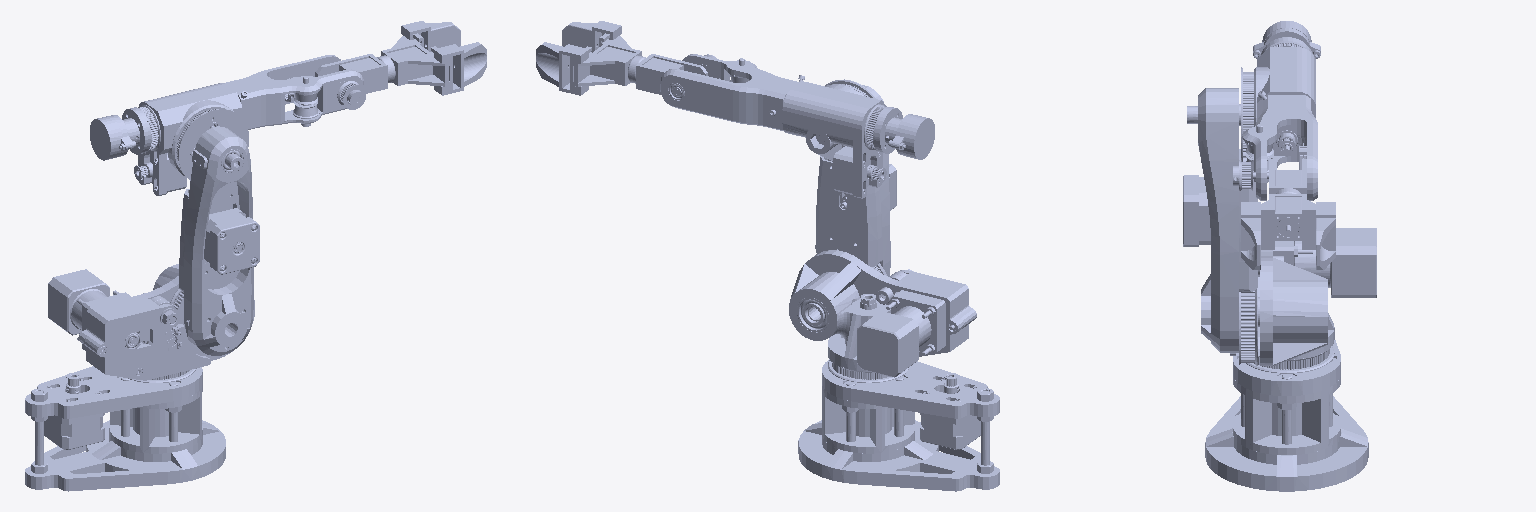
URDF robot description (grace):
<?xml version="1.0" encoding="utf-8" ?>
<!-- This URDF was automatically created by SolidWorks to URDF Exporter! Originally created by [author] ([email redacted]) 
     Commit Version: 1.6.0-4-g7f85cfe  Build Version: 1.6.7995.38578
     For more information, please see http://wiki.ros.org/sw_urdf_exporter -->
<robot name="grace">

    <link name="arm_link">
        
<inertial>
            <origin xyz="-0.0230713386000361 9.15799543976803E-08 0.0415100455137467" rpy="0 0 0" />
            <mass value="0.521201362359327" />
            <inertia ixx="0.000308448801249096" ixy="-2.24010570170033E-10" ixz="-4.20908209420788E-06" iyy="0.000629271153965848" iyz="3.68418762308172E-10" izz="0.000820585760917926" />
        </inertial>

        <visual>
            <origin xyz="0 0 0" rpy="0 0 0" />
            <geometry>
                <mesh filename="package://grace_arm_description/meshes/base_link.STL" />
            </geometry>
            <material name="">
                <color rgba="0.792156862745098 0.819607843137255 0.933333333333333 1" />
            </material>
        </visual>
        <collision>
            <origin xyz="0 0 0" rpy="0 0 0" />
            <geometry>
                <mesh filename="package://grace_arm_description/meshes/base_link.STL" />
            </geometry>
        </collision>
        <gazebo>
            <static>true</static>
        </gazebo>
    </link>

    <link name="link_1">
        
<inertial>
            <origin xyz="-0.00367212792136895 -0.000953971744108238 0.0314259611133999" rpy="0 0 0" />
            <mass value="0.44628825628102" />
            <inertia ixx="0.000211622135350193" ixy="-1.60898695184289E-05" ixz="-2.12044163670866E-05" iyy="0.000426842605557489" iyz="8.45937792738111E-06" izz="0.000364093985789392" />
        </inertial>

        <visual>
            <origin xyz="0 0 0" rpy="0 0 0" />
            <geometry>
                <mesh filename="package://grace_arm_description/meshes/link_1.STL" />
            </geometry>
            <material name="">
                <color rgba="0.792156862745098 0.819607843137255 0.933333333333333 1" />
            </material>
        </visual>
        <collision>
            <origin xyz="0 0 0" rpy="0 0 0" />
            <geometry>
                <mesh filename="package://grace_arm_description/meshes/link_1.STL" />
            </geometry>
        </collision>
    </link>
    <joint name="joint_1" type="revolute">
        <origin xyz="0 0 0.0996786823922755" rpy="0 0 0" />
        <parent link="arm_link" />
        <child link="link_1" />
        <axis xyz="0 0 -1" />
        <limit lower="-1.85005" upper="1.85005" effort="2.8" velocity="3" />
    </joint>
    <link name="link_2">
        
<inertial>
            <origin xyz="-4.49098406521686E-05 -0.0265864041730696 0.0740533879090693" rpy="0 0 0" />
            <mass value="0.259039695912046" />
            <inertia ixx="0.000716987912967795" ixy="-2.69254469666682E-08" ixz="1.11063727567744E-06" iyy="0.000772334119559269" iyz="9.86292495639906E-06" izz="7.60097420899484E-05" />
        </inertial>

        <visual>
            <origin xyz="0 0 0" rpy="0 0 0" />
            <geometry>
                <mesh filename="package://grace_arm_description/meshes/link_2.STL" />
            </geometry>
            <material name="">
                <color rgba="0.792156862745098 0.819607843137255 0.933333333333333 1" />
            </material>
        </visual>
        <collision>
            <origin xyz="0 0 0" rpy="0 0 0" />
            <geometry>
                <mesh filename="package://grace_arm_description/meshes/link_2.STL" />
            </geometry>
        </collision>
    </link>
    <joint name="joint_2" type="revolute">
        <origin xyz="0.0374999999999999 -0.0205999999999994 0.0356213176077246" rpy="0 0 0" />
        <parent link="link_1" />
        <child link="link_2" />
        <axis xyz="0 1 0" />
        <limit lower="-0.314159" upper="2.1" effort="2.8" velocity="3" />
    </joint>
    <link name="link_3">
        
<inertial>
            <origin xyz="-0.00667556981939788 0.013244622821894 0.00210092260676947" rpy="0 0 0" />
            <mass value="0.196523155872548" />
            <inertia ixx="8.09651824587146E-05" ixy="2.81975169120418E-06" ixz="-3.66085369615221E-06" iyy="0.000112059523768602" iyz="-6.25153874978293E-06" izz="9.44916270684125E-05" />
        </inertial>

        <visual>
            <origin xyz="0 0 0" rpy="0 0 0" />
            <geometry>
                <mesh filename="package://grace_arm_description/meshes/link_3.STL" />
            </geometry>
            <material name="">
                <color rgba="0.792156862745098 0.819607843137255 0.933333333333333 1" />
            </material>
        </visual>
        <collision>
            <origin xyz="0 0 0" rpy="0 0 0" />
            <geometry>
                <mesh filename="package://grace_arm_description/meshes/link_3.STL" />
            </geometry>
        </collision>
    </link>
    <joint name="joint_3" type="revolute">
        <origin xyz="0 0 0.16" rpy="0 0 0" />
        <parent link="link_2" />
        <child link="link_3" />
        <axis xyz="0 1 0" />
        <limit lower="-0.610865" upper="0.7833" effort="2.8" velocity="3" />
    </joint>
    <link name="link_4">
        
<inertial>
            <origin xyz="0.0417446458132815 -0.00121844062855813 -2.82984578249823E-05" rpy="0 0 0" />
            <mass value="0.13904213264245" />
            <inertia ixx="3.3956174612803E-05" ixy="-9.08014614619385E-07" ixz="-3.24476833174034E-08" iyy="9.52192497334699E-05" iyz="-1.06868181454595E-08" izz="0.000102425361067127" />
        </inertial>

        <visual>
            <origin xyz="0 0 0" rpy="0 0 0" />
            <geometry>
                <mesh filename="package://grace_arm_description/meshes/link_4.STL" />
            </geometry>
            <material name="">
                <color rgba="0.792156862745098 0.819607843137255 0.933333333333333 1" />
            </material>
        </visual>
        <collision>
            <origin xyz="0 0 0" rpy="0 0 0" />
            <geometry>
                <mesh filename="package://grace_arm_description/meshes/link_4.STL" />
            </geometry>
        </collision>
    </link>
    <joint name="joint_4" type="revolute">
        <origin xyz="0 0.0205999999999994 0.0149999999999999" rpy="0 0 0" />
        <parent link="link_3" />
        <child link="link_4" />
        <axis xyz="1 0 0" />
        <limit lower="-3.14" upper="3.14" effort="0.26" velocity="3" />
    </joint>
    <link name="link_5">
        
<inertial>
            <origin xyz="0.0238545234249183 0.001000000000004 -4.30211422042248E-15" rpy="0 0 0" />
            <mass value="0.0226291261478766" />
            <inertia ixx="2.63033208556289E-06" ixy="5.83691209581624E-20" ixz="4.79954959215583E-22" iyy="4.6077178783839E-06" iyz="-3.26721704603512E-21" izz="5.5778477420272E-06" />
        </inertial>

        <visual>
            <origin xyz="0 0 0" rpy="0 0 0" />
            <geometry>
                <mesh filename="package://grace_arm_description/meshes/link_5.STL" />
            </geometry>
            <material name="">
                <color rgba="0.792156862745098 0.819607843137255 0.933333333333333 1" />
            </material>
        </visual>
        <collision>
            <origin xyz="0 0 0" rpy="0 0 0" />
            <geometry>
                <mesh filename="package://grace_arm_description/meshes/link_5.STL" />
            </geometry>
        </collision>
    </link>
    <joint name="joint_5" type="revolute">
        <origin xyz="0.138399999999998 0 0" rpy="0 0 0" />
        <parent link="link_4" />
        <child link="link_5" />
        <axis xyz="0 1 0" />
        <limit lower="-1.74533" upper="1.74533" effort="100" velocity="3" />
    </joint>
    <link name="link_6">
        
<inertial>
            <origin xyz="0.0375700933313833 7.79931674799172E-15 1.74860126378462E-15" rpy="0 0 0" />
            <mass value="0.0344745442037744" />
            <inertia ixx="8.25707747004663E-06" ixy="1.24099057490131E-20" ixz="-8.96220887935423E-22" iyy="5.60919944945653E-06" iyz="6.64403133578784E-22" izz="1.04084249994565E-05" />
        </inertial>

        <visual>
            <origin xyz="0 0 0" rpy="0 0 0" />
            <geometry>
                <mesh filename="package://grace_arm_description/meshes/link_6.STL" />
            </geometry>
            <material name="">
                <color rgba="0.792156862745098 0.819607843137255 0.933333333333333 1" />
            </material>
        </visual>
        <collision>
            <origin xyz="0 0 0" rpy="0 0 0" />
            <geometry>
                <mesh filename="package://grace_arm_description/meshes/link_6.STL" />
            </geometry>
        </collision>
    </link>
    <joint name="joint_6" type="revolute">
        <origin xyz="0.0368264234301688 0.00100000000000361 0" rpy="0 0 0" />
        <parent link="link_5" />
        <child link="link_6" />
        <axis xyz="1 0 0" />
        <limit lower="-6.28" upper="6.28" effort="100" velocity="3" />
    </joint>
    <link name="link_7">
        
<inertial>
            <origin xyz="0.0813383689142501 -0.00569799510345087 -0.0109507082226625" rpy="0 0 0" />
            <mass value="0.0107833196956505" />
            <inertia ixx="1.71418722053534E-06" ixy="-2.56039273423129E-07" ixz="1.0347632917084E-12" iyy="3.38137633095013E-06" iyz="2.49449182084092E-12" izz="2.04176420366087E-06" />
        </inertial>

        <visual>
            <origin xyz="0 0 0" rpy="0 0 0" />
            <geometry>
                <mesh filename="package://grace_arm_description/meshes/link_7.STL" />
            </geometry>
            <material name="">
                <color rgba="0.792156862745098 0.819607843137255 0.933333333333333 1" />
            </material>
        </visual>
        <collision>
            <origin xyz="0 0 0" rpy="0 0 0" />
            <geometry>
                <mesh filename="package://grace_arm_description/meshes/link_7.STL" />
            </geometry>
        </collision>
    </link>
    <joint name="joint_7" type="prismatic">
        <origin xyz="-0.0085199938135937 -0.0199999999998909 0.0109507154822943" rpy="0 0 0" />
        <parent link="link_6" />
        <child link="link_7" />
        <axis xyz="0 1 0" />
        <limit lower="0" upper="0.02" effort="100" velocity="3" />
    </joint>
    <link name="link_8">
        
<inertial>
            <origin xyz="0.0813383689142507 0.00569799510352407 0.0109507082226624" rpy="0 0 0" />
            <mass value="0.0107833196956505" />
            <inertia ixx="1.71418722053532E-06" ixy="2.56039273423034E-07" ixz="-1.03476328954469E-12" iyy="3.38137633095016E-06" iyz="2.49449182102149E-12" izz="2.04176420366087E-06" />
        </inertial>

        <visual>
            <origin xyz="0 0 0" rpy="0 0 0" />
            <geometry>
                <mesh filename="package://grace_arm_description/meshes/link_8.STL" />
            </geometry>
            <material name="">
                <color rgba="0.792156862745098 0.819607843137255 0.933333333333333 1" />
            </material>
        </visual>
        <collision>
            <origin xyz="0 0 0" rpy="0 0 0" />
            <geometry>
                <mesh filename="package://grace_arm_description/meshes/link_8.STL" />
            </geometry>
        </collision>
    </link>
    <joint name="joint_8" type="prismatic">
        <origin xyz="-0.00851999381359586 0.01999999999987 -0.01095071548229" rpy="0 0 0" />
        <parent link="link_6" />
        <child link="link_8" />
        <axis xyz="0 -1 0" />
        <limit lower="0" upper="0.02" effort="100" velocity="3" />
        <mimic joint="joint_7" multiplier="1" offset="0" />
    </joint>
    
<transmission name="trans_joint_1">
        <type>transmission_interface/SimpleTransmission</type>
        <joint name="joint_1">
            <hardwareInterface>hardware_interface/PositionJointInterface</hardwareInterface>
        </joint>
        <actuator name="joint_1_motor">
            <hardwareInterface>hardware_interface/PositionJointInterface</hardwareInterface>
            <mechanicalReduction>1</mechanicalReduction>
        </actuator>
    </transmission>
    <transmission name="trans_joint_2">
        <type>transmission_interface/SimpleTransmission</type>
        <joint name="joint_2">
            <hardwareInterface>hardware_interface/PositionJointInterface</hardwareInterface>
        </joint>
        <actuator name="joint_2_motor">
            <hardwareInterface>hardware_interface/PositionJointInterface</hardwareInterface>
            <mechanicalReduction>1</mechanicalReduction>
        </actuator>
    </transmission>
    <transmission name="trans_joint_3">
        <type>transmission_interface/SimpleTransmission</type>
        <joint name="joint_3">
            <hardwareInterface>hardware_interface/PositionJointInterface</hardwareInterface>
        </joint>
        <actuator name="joint_3_motor">
            <hardwareInterface>hardware_interface/PositionJointInterface</hardwareInterface>
            <mechanicalReduction>1</mechanicalReduction>
        </actuator>
    </transmission>
    <transmission name="trans_joint_4">
        <type>transmission_interface/SimpleTransmission</type>
        <joint name="joint_4">
            <hardwareInterface>hardware_interface/PositionJointInterface</hardwareInterface>
        </joint>
        <actuator name="joint_4_motor">
            <hardwareInterface>hardware_interface/PositionJointInterface</hardwareInterface>
            <mechanicalReduction>1</mechanicalReduction>
        </actuator>
    </transmission>
    <transmission name="trans_joint_5">
        <type>transmission_interface/SimpleTransmission</type>
        <joint name="joint_5">
            <hardwareInterface>hardware_interface/PositionJointInterface</hardwareInterface>
        </joint>
        <actuator name="joint_5_motor">
            <hardwareInterface>hardware_interface/PositionJointInterface</hardwareInterface>
            <mechanicalReduction>1</mechanicalReduction>
        </actuator>
    </transmission>
    <transmission name="trans_joint_6">
        <type>transmission_interface/SimpleTransmission</type>
        <joint name="joint_6">
            <hardwareInterface>hardware_interface/PositionJointInterface</hardwareInterface>
        </joint>
        <actuator name="joint_6_motor">
            <hardwareInterface>hardware_interface/PositionJointInterface</hardwareInterface>
            <mechanicalReduction>1</mechanicalReduction>
        </actuator>
    </transmission>
    <transmission name="trans_joint_7">
        <type>transmission_interface/SimpleTransmission</type>
        <joint name="joint_7">
            <hardwareInterface>hardware_interface/PositionJointInterface</hardwareInterface>
        </joint>
        <actuator name="joint_7_motor">
            <hardwareInterface>hardware_interface/PositionJointInterface</hardwareInterface>
            <mechanicalReduction>1</mechanicalReduction>
        </actuator>
    </transmission>
    <transmission name="trans_joint_8">
        <type>transmission_interface/SimpleTransmission</type>
        <joint name="joint_8">
            <hardwareInterface>hardware_interface/PositionJointInterface</hardwareInterface>
        </joint>
        <actuator name="joint_8_motor">
            <hardwareInterface>hardware_interface/PositionJointInterface</hardwareInterface>
            <mechanicalReduction>1</mechanicalReduction>
        </actuator>
    </transmission>
    <gazebo>
        <plugin name="gazebo_ros_control" filename="libgazebo_ros_control.so">
            <robotNamespace>/grace</robotNamespace>
        </plugin>
    </gazebo>
</robot>

--- Render facts (derived) ---
3 views of the same robot in one strip: view 1: azimuth 30°, elevation 25°; view 2: azimuth 150°, elevation 25°; view 3: azimuth 270°, elevation 25° (orthographic).
Model grace with 9 links and 8 joints (6 revolute, 2 prismatic), rooted at arm_link, posed all joints at 0.
Visible links, largest first — view 1: arm_link, link_2, link_1, link_4, link_3, link_6, link_7, link_5, link_8; view 2: arm_link, link_1, link_4, link_3, link_2, link_6, link_8, link_5, link_7; view 3: arm_link, link_1, link_2, link_4, link_3, link_6, link_7, link_8, link_5.
Boxes of the visible links, x1,y1,x2,y2 form: arm_link: [25, 366, 225, 491]; link_2: [179, 126, 259, 355]; link_1: [48, 264, 254, 380]; link_4: [90, 55, 365, 160]; link_3: [134, 83, 248, 195]; link_6: [377, 33, 449, 91]; link_7: [434, 42, 486, 95]; link_5: [315, 54, 387, 93]; link_8: [401, 21, 460, 51]; arm_link: [798, 300, 999, 491]; link_1: [789, 249, 976, 377]; link_4: [660, 54, 934, 159]; link_3: [782, 79, 886, 198]; link_2: [815, 85, 896, 276]; link_6: [573, 33, 645, 91]; link_8: [536, 42, 588, 95]; link_5: [636, 54, 707, 94]; link_7: [562, 21, 621, 52]; arm_link: [1205, 340, 1368, 491]; link_1: [1230, 228, 1376, 365]; link_2: [1183, 88, 1257, 352]; link_4: [1233, 21, 1320, 200]; link_3: [1187, 47, 1315, 161]; link_6: [1261, 188, 1315, 249]; link_7: [1241, 202, 1260, 269]; link_8: [1316, 202, 1335, 269]; link_5: [1269, 159, 1306, 193].
Size in the robot's own frame: 0.4414 by 0.1429 by 0.3328 metres.
Meshes: 9 distinct files referenced, 9 mesh visuals loaded (9 binary STL).
